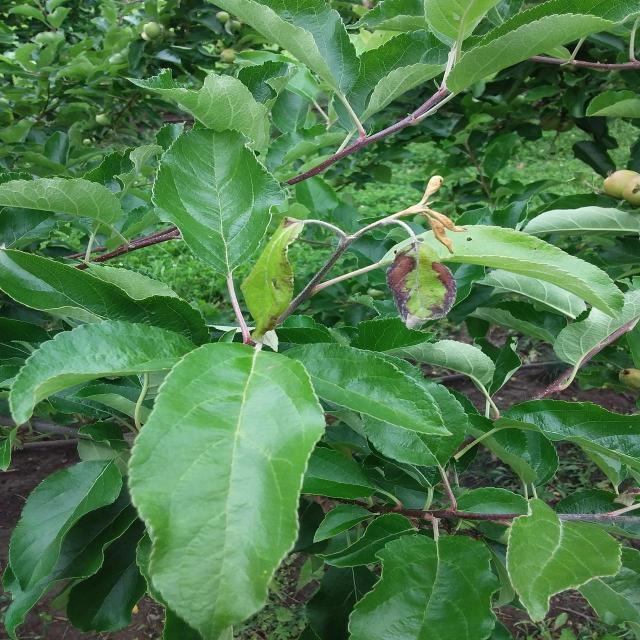-FireBlight-: (384, 243, 456, 331), (400, 174, 468, 256)
